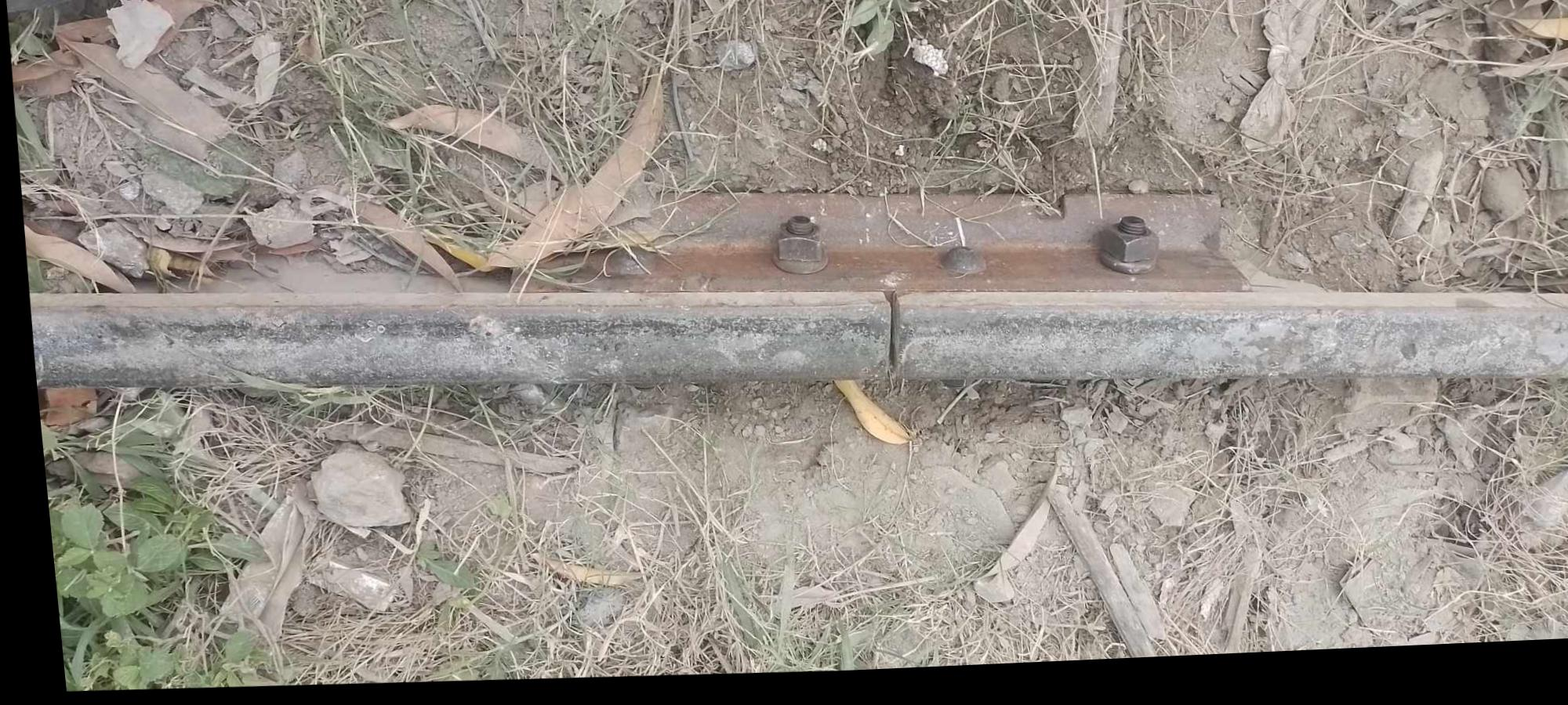person: (807, 271, 959, 412)
